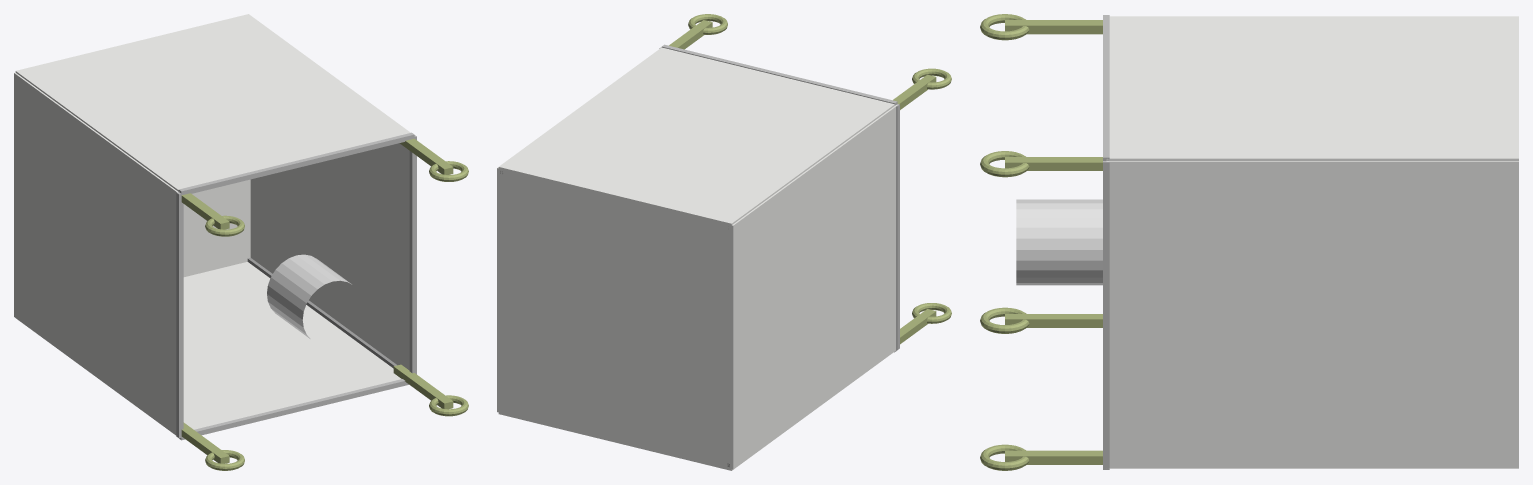
Rendered from modelo-valvula-carga-ciego.glb.
3 renders of one model, left to right at view 1: azimuth 30°, elevation 25°; view 2: azimuth 150°, elevation 25°; view 3: azimuth 270°, elevation 25°, orthographic. The views are drawn at different scales.
Parts seen in each view (by area): view 1: left_shell, back_shell, right_shell, front_shell, bottom, accesorio_valvula_ciego, top_left_rim, top_back_rim, top_right_rim, top_front_rim, loop_strap_1, side_seam_0.438 (+7 smaller); view 2: bottom, left_shell, back_shell, top_left_rim, top_back_rim, front_shell, right_shell, loop_strap_2, loop_strap_0, loop_strap_3, loop_top_3, loop_top_2 (+1 smaller); view 3: right_shell, back_shell, accesorio_valvula_ciego, top_right_rim, loop_strap_1, loop_strap_2, loop_strap_3, loop_strap_0, top_back_rim, front_shell, loop_top_1, loop_top_0 (+2 smaller).
Boxes of the visible parts, left/top/right/bottom form: left_shell: left=14, top=72, right=178, bottom=435; back_shell: left=15, top=14, right=410, bottom=192; right_shell: left=250, top=143, right=409, bottom=370; front_shell: left=33, top=262, right=401, bottom=429; bottom: left=183, top=179, right=250, bottom=276; accesorio_valvula_ciego: left=267, top=254, right=351, bottom=338; top_left_rim: left=176, top=192, right=183, bottom=438; top_back_rim: left=178, top=132, right=414, bottom=195; top_right_rim: left=409, top=135, right=416, bottom=374; top_front_rim: left=179, top=379, right=408, bottom=440; loop_strap_1: left=393, top=364, right=453, bottom=409; side_seam_0.438: left=247, top=257, right=396, bottom=368; bottom: left=498, top=169, right=731, bottom=466; left_shell: left=730, top=105, right=897, bottom=469; back_shell: left=498, top=47, right=894, bottom=226; top_left_rim: left=896, top=104, right=899, bottom=350; top_back_rim: left=662, top=44, right=897, bottom=105; front_shell: left=498, top=351, right=894, bottom=470; right_shell: left=497, top=167, right=499, bottom=412; loop_strap_2: left=893, top=74, right=936, bottom=109; loop_strap_0: left=900, top=309, right=936, bottom=344; loop_strap_3: left=669, top=20, right=712, bottom=49; loop_top_3: left=688, top=14, right=727, bottom=34; loop_top_2: left=912, top=68, right=951, bottom=89; right_shell: left=1106, top=161, right=1518, bottom=467; back_shell: left=1106, top=16, right=1518, bottom=160; accesorio_valvula_ciego: left=1016, top=199, right=1102, bottom=285; top_right_rim: left=1103, top=161, right=1109, bottom=468; loop_strap_1: left=1005, top=450, right=1102, bottom=464; loop_strap_2: left=1005, top=20, right=1102, bottom=34; loop_strap_3: left=1005, top=157, right=1102, bottom=170; loop_strap_0: left=1005, top=314, right=1102, bottom=327; top_back_rim: left=1103, top=15, right=1109, bottom=160; front_shell: left=1109, top=467, right=1518, bottom=468; loop_top_1: left=980, top=444, right=1029, bottom=470; loop_top_0: left=980, top=307, right=1029, bottom=333.
Bounding box in the file's own units: 0.998 × 0.918 × 1.44.
